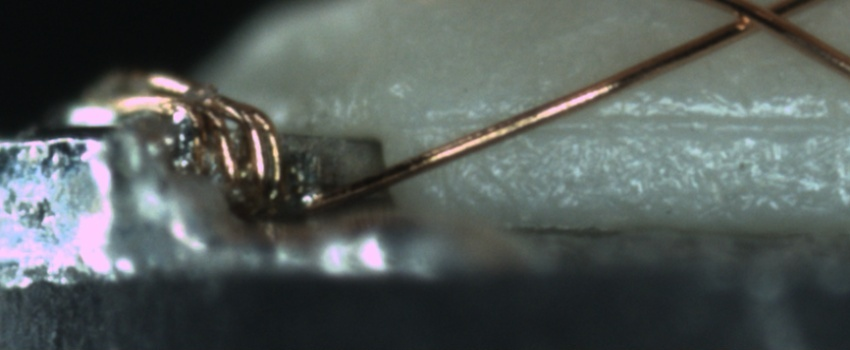CL: (716, 0, 804, 41)
DL: (414, 95, 850, 156)
TE: (81, 62, 291, 209)
